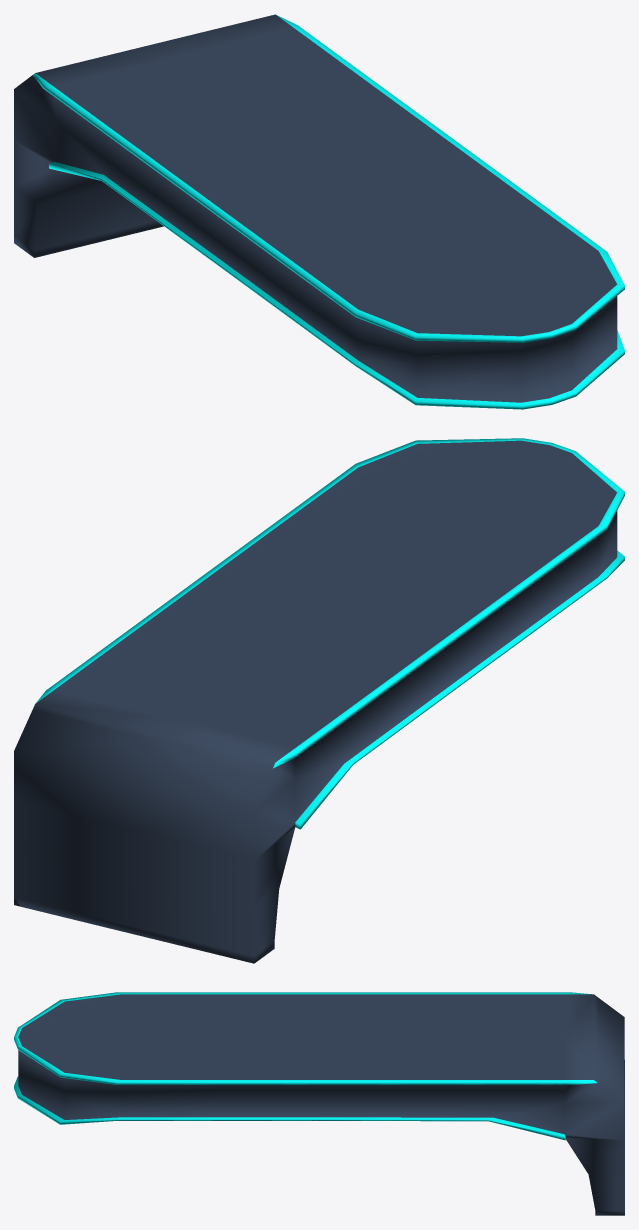
The model's file is escritorio.FBX.
The picture shows the model from 3 angles, top to bottom: view 1: azimuth 30°, elevation 25°; view 2: azimuth 150°, elevation 25°; view 3: azimuth 270°, elevation 25°; orthographic projection. The views are drawn at different scales.
Visible parts, largest first — view 1: Box001; view 2: Box001; view 3: Box001.
Part boxes in pixels (x1,y1,x2,y2): Box001: [14, 14, 624, 409]; Box001: [14, 438, 624, 963]; Box001: [14, 992, 624, 1215].
Bounding box in the file's own units: 16.49 × 11.63 × 47.45.
